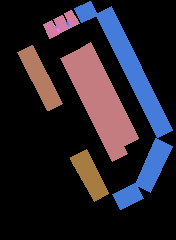parkingspot: (95, 6, 172, 137), (60, 51, 127, 161), (74, 42, 138, 146), (17, 45, 62, 110), (135, 138, 172, 192), (70, 149, 108, 201), (112, 183, 143, 209), (74, 1, 97, 22), (43, 20, 59, 38), (53, 15, 69, 32), (64, 10, 79, 27)
